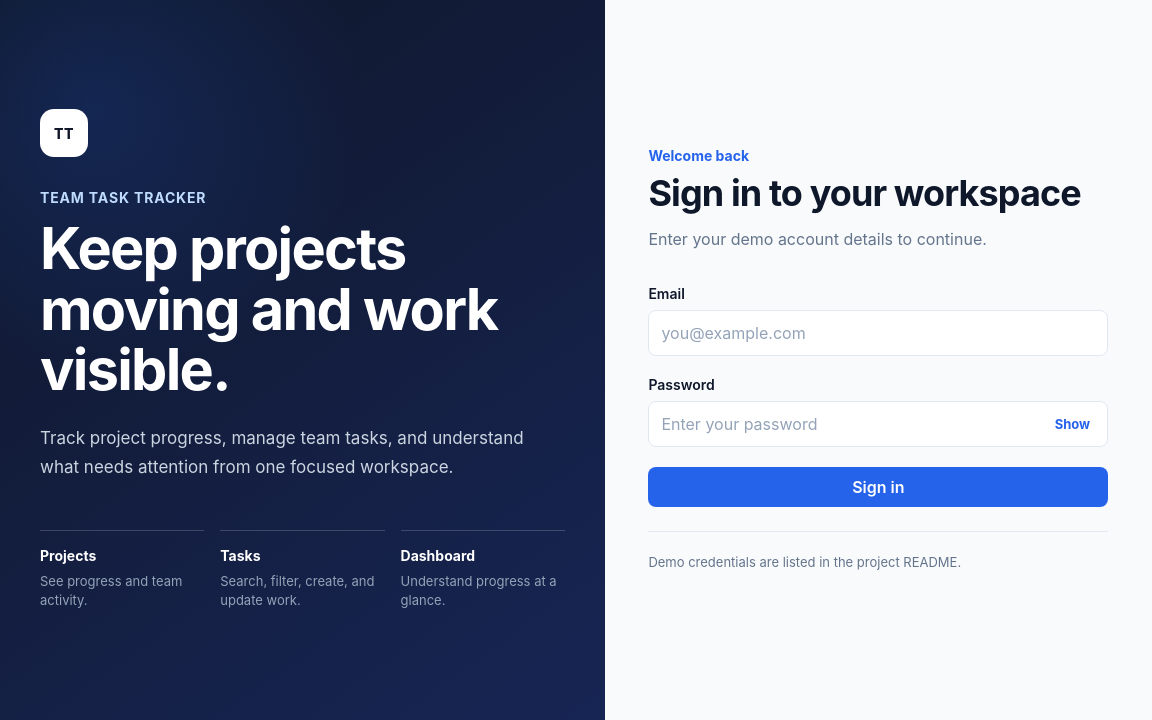
Test: SignInPage › shows a clear error message when sign-in fails
Type "demo@tasktracker.com" into the field labelled "Email" at (878, 333), box [648,310,1108,356]
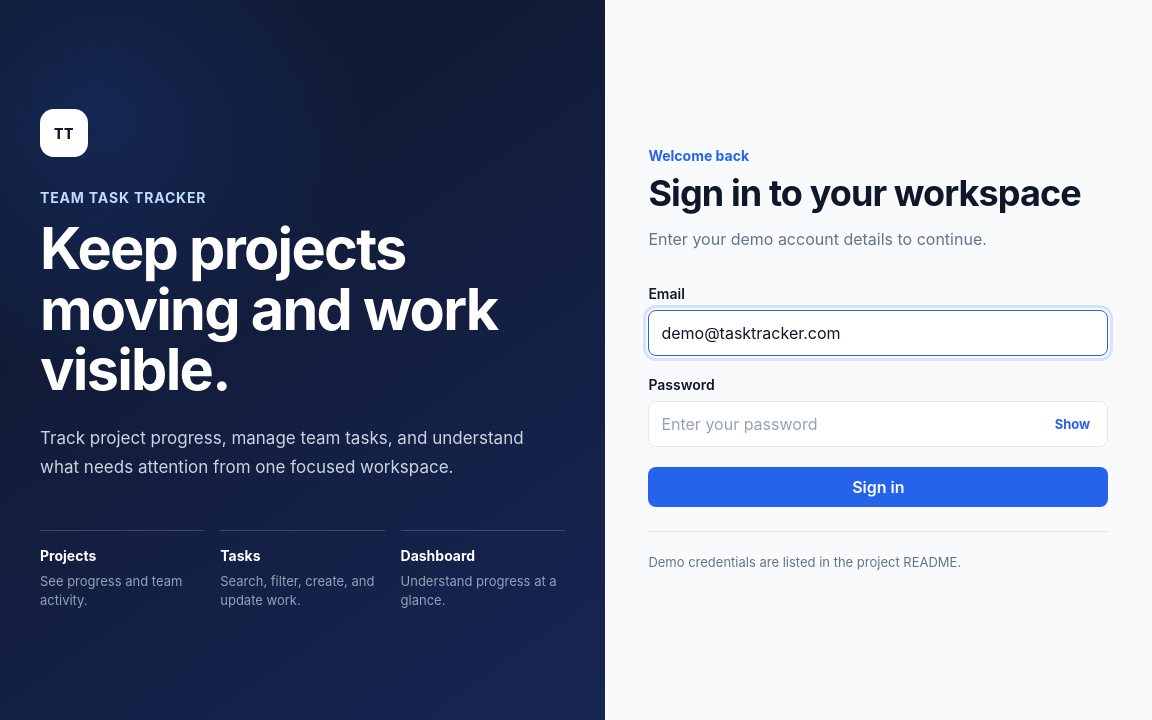
Type "wrong-password" into the password field labelled "Password" at (878, 424), box [648,401,1108,447]
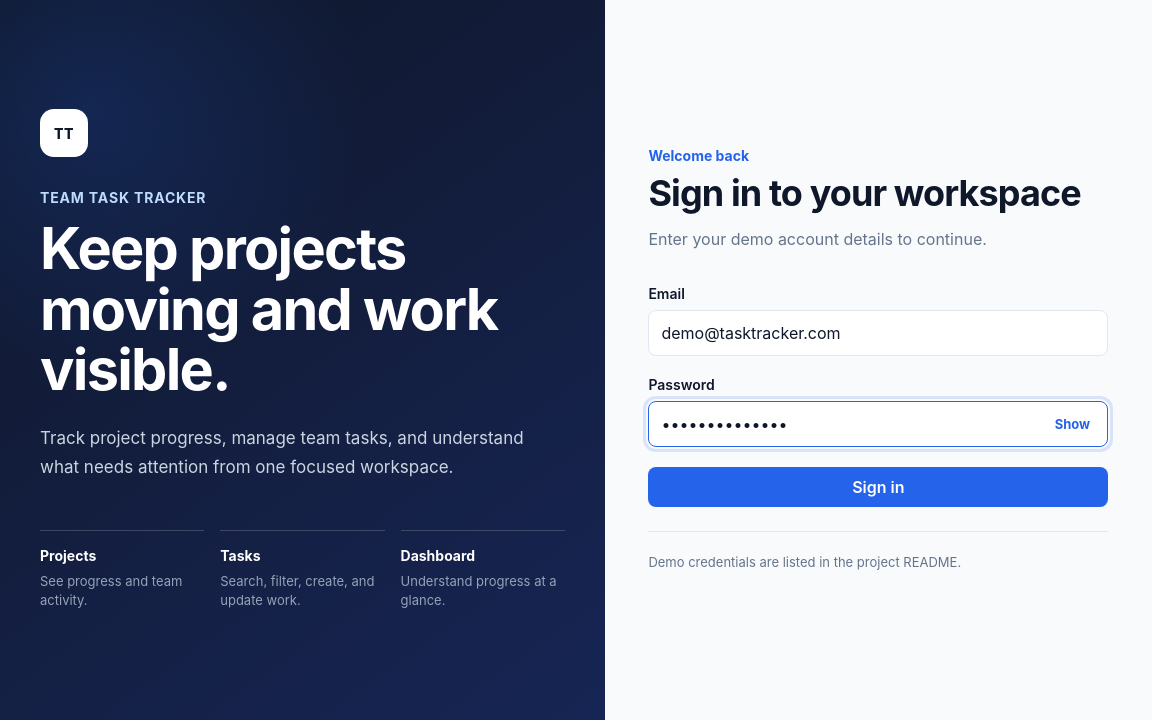
Click the button "Sign in" at (878, 487), box [648,467,1108,507]
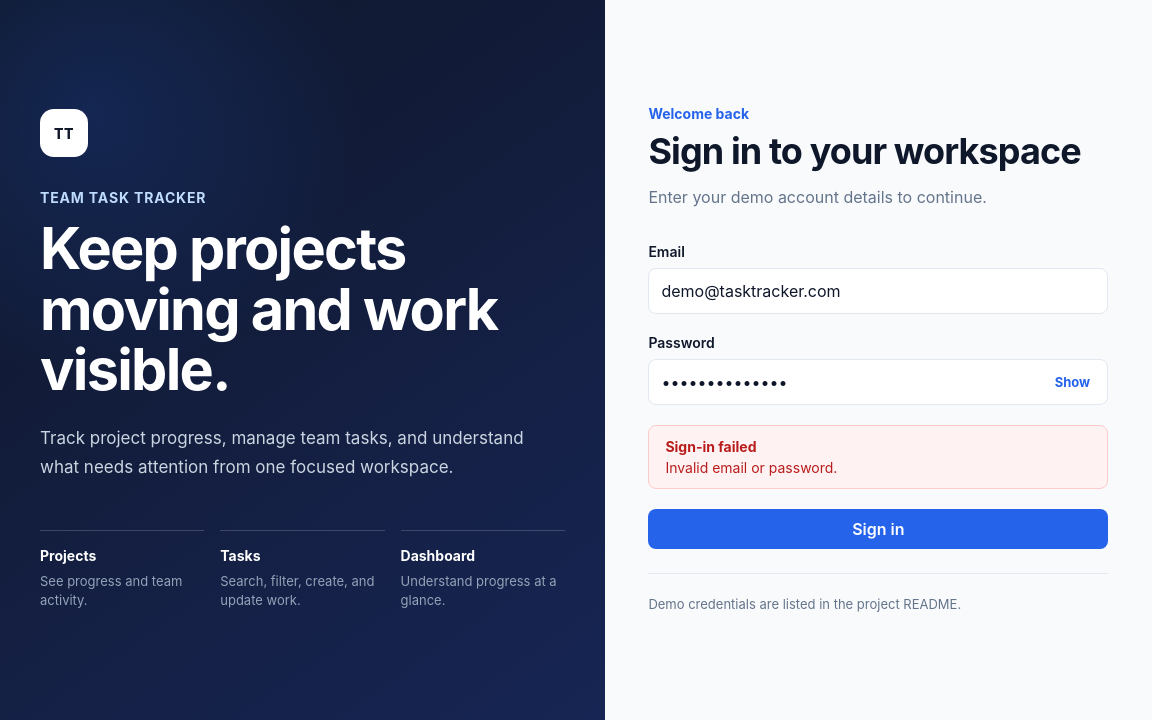
Expected: the text "Invalid email or password." is shown, [665,459,837,476]
